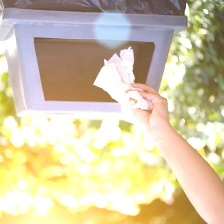tissue: (89, 41, 159, 128)
